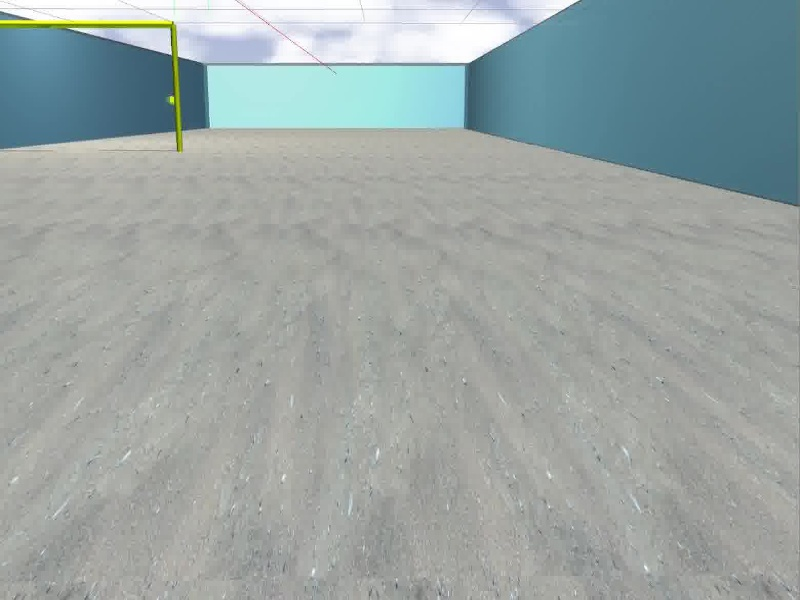gate: (1, 18, 183, 155)
